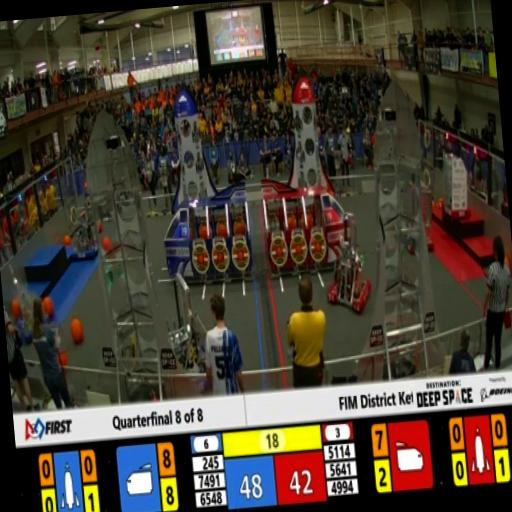robot: (158, 262, 214, 378), (328, 228, 373, 318), (394, 172, 438, 254), (438, 143, 478, 226), (64, 198, 104, 261)
